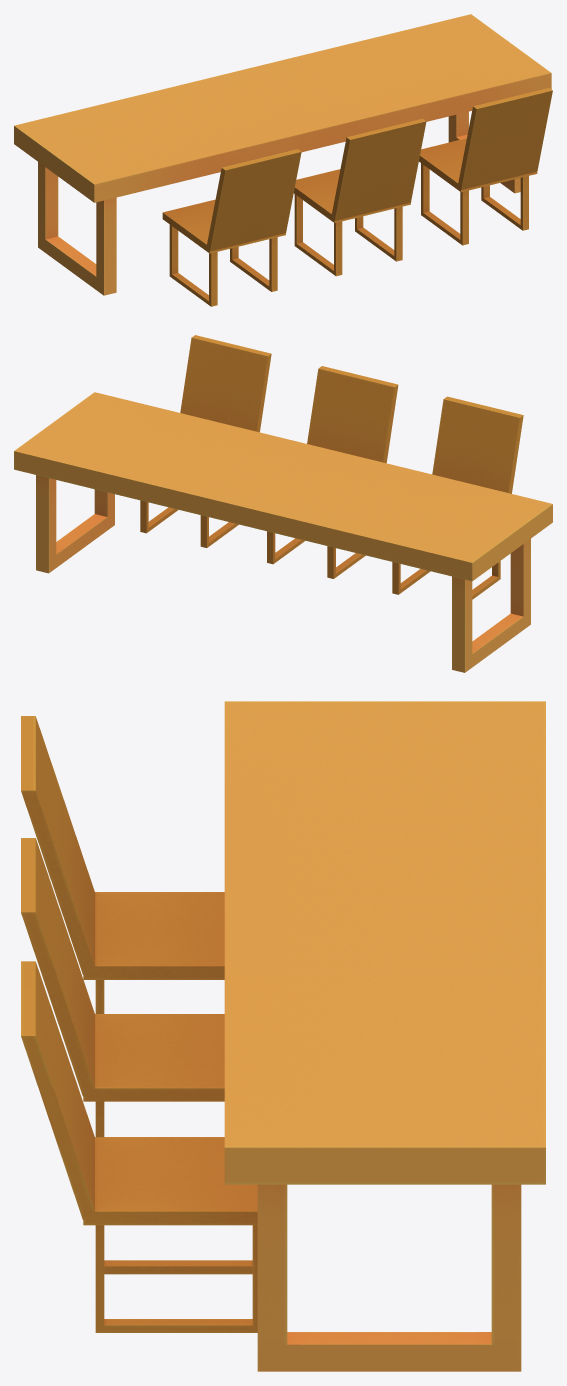
The model's file is table02_01.fbx.
3 views of the same model, one above another, from view 1: azimuth 30°, elevation 25°; view 2: azimuth 150°, elevation 25°; view 3: azimuth 270°, elevation 25° (orthographic). The views are drawn at different scales.
Visible parts, largest first — view 1: polySurface192; view 2: polySurface192; view 3: polySurface192.
Part boxes in pixels (bbox=[...]): polySurface192: bbox=[14, 14, 552, 306]; polySurface192: bbox=[14, 335, 552, 672]; polySurface192: bbox=[21, 701, 545, 1371].
Size of the model in its own units: 49.46 by 15.65 by 24.6.
1 material, 1 textured.
